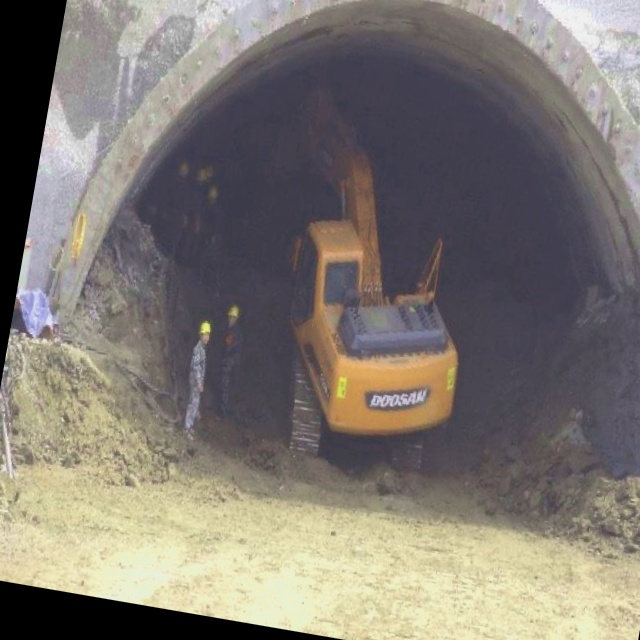Con_Casco: (197, 319, 214, 347), (226, 303, 242, 329)
